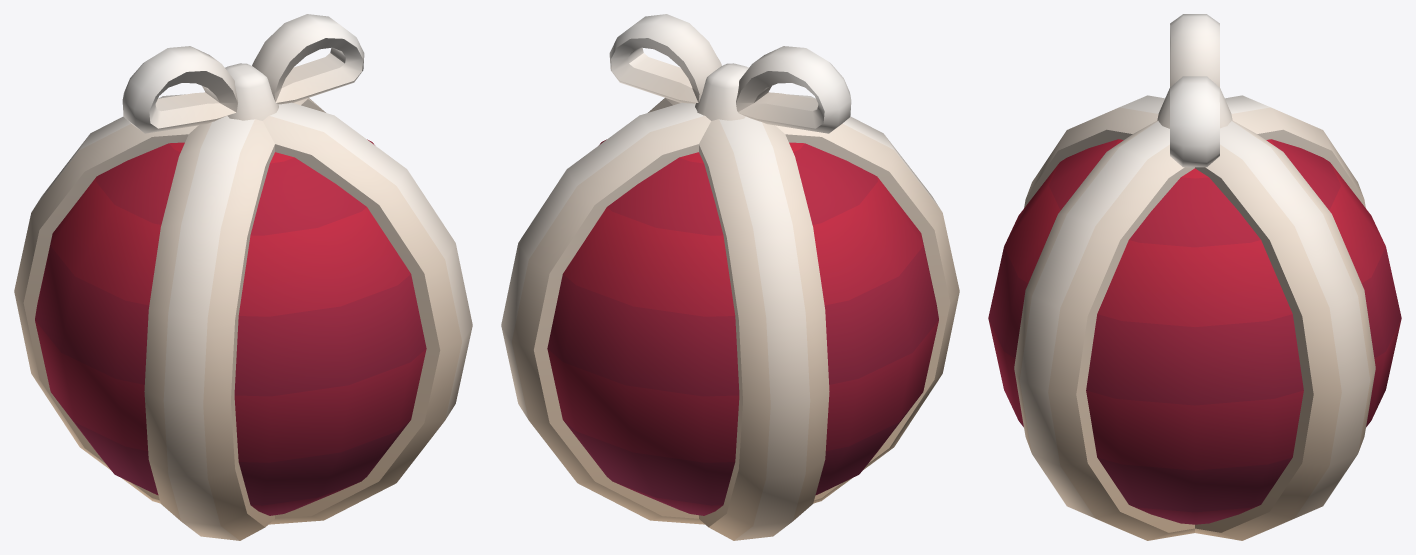
File: present_sphere_B_red.fbx
3 renders of one model, left to right at view 1: azimuth 30°, elevation 25°; view 2: azimuth 150°, elevation 25°; view 3: azimuth 270°, elevation 25°, orthographic.
Visible parts, largest first — view 1: present_sphere_B_red; view 2: present_sphere_B_red; view 3: present_sphere_B_red.
Part boxes in pixels (left/top/right/bottom): present_sphere_B_red: left=14, top=14, right=472, bottom=540; present_sphere_B_red: left=501, top=14, right=959, bottom=540; present_sphere_B_red: left=988, top=14, right=1401, bottom=540.
Size of the model in its own units: 79.33 by 100 by 79.33.
